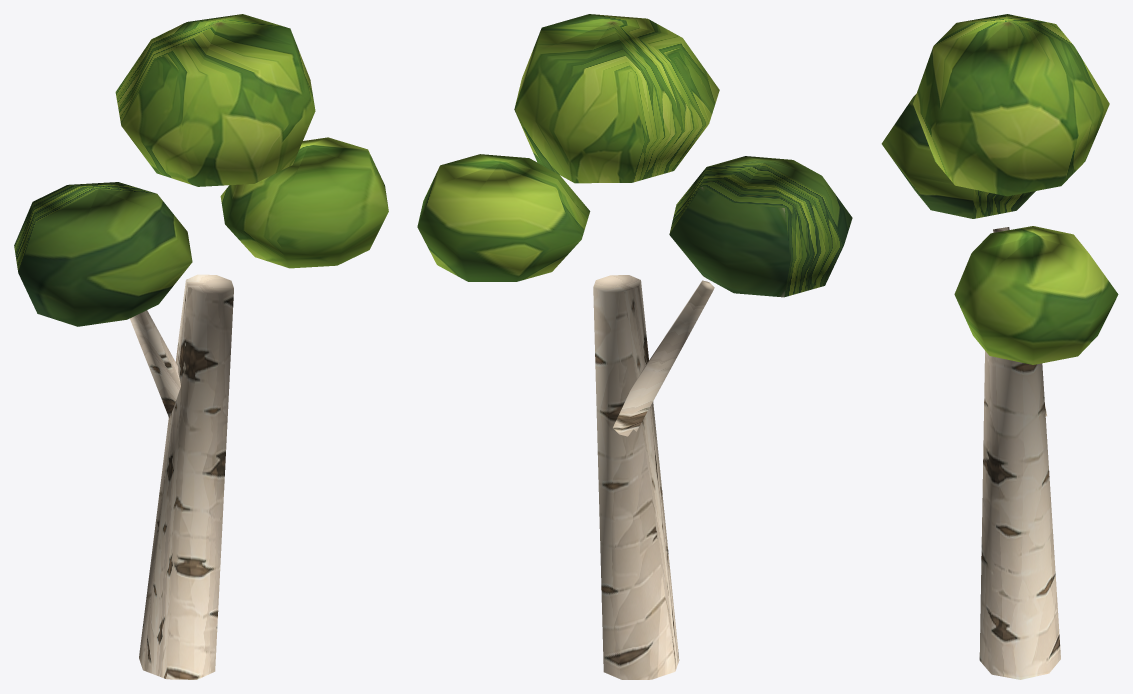
File: tree_birch_light.obj
The picture shows the model from 3 angles, left to right: view 1: azimuth 30°, elevation 25°; view 2: azimuth 150°, elevation 25°; view 3: azimuth 270°, elevation 25°; orthographic projection. The views are drawn at different scales.
Parts seen in each view (by area): view 1: tree_birch_light; view 2: tree_birch_light; view 3: tree_birch_light.
Part boxes in pixels (left/top/right/bottom): tree_birch_light: left=14, top=14, right=388, bottom=679; tree_birch_light: left=417, top=14, right=852, bottom=679; tree_birch_light: left=881, top=14, right=1118, bottom=679.
Bounding box in the file's own units: 1.1 × 1.7 × 0.5532.
3 materials, 3 textured.
